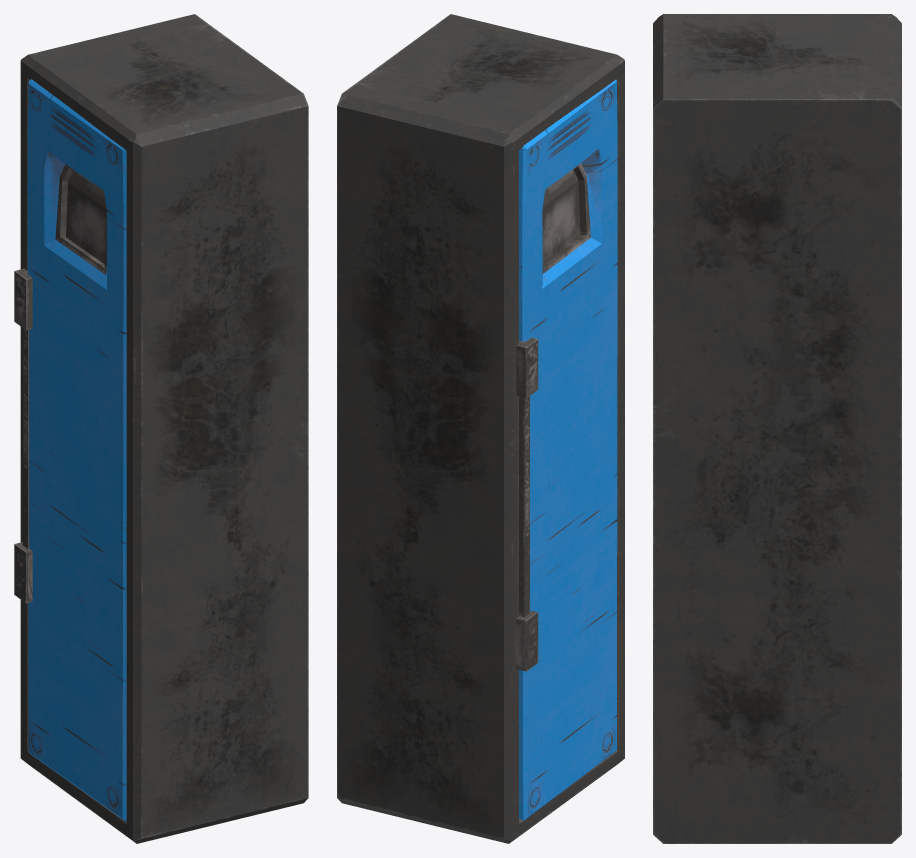
The model's file is Cabinet.fbx.
The picture shows the model from 3 angles, left to right: view 1: azimuth 30°, elevation 25°; view 2: azimuth 150°, elevation 25°; view 3: azimuth 270°, elevation 25°; orthographic projection. The views are drawn at different scales.
Parts seen in each view (by area): view 1: Cube.008, Cube.009, Cube.011; view 2: Cube.008, Cube.009, Cube.011; view 3: Cube.008.
Boxes of the visible parts, x1,y1,x2,y2 form: Cube.008: [20, 14, 308, 843]; Cube.009: [27, 79, 126, 820]; Cube.011: [14, 268, 32, 603]; Cube.008: [337, 14, 624, 843]; Cube.009: [519, 79, 617, 820]; Cube.011: [516, 337, 538, 671]; Cube.008: [653, 14, 901, 843].
Bounding box in the file's own units: 104 × 386 × 117.
